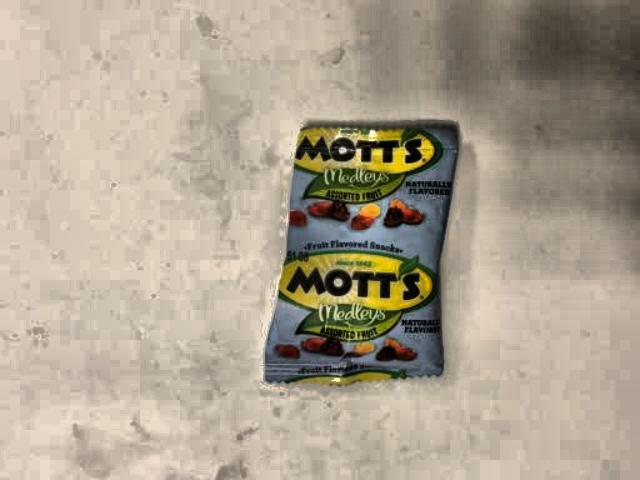Plastic: (238, 109, 471, 404)
